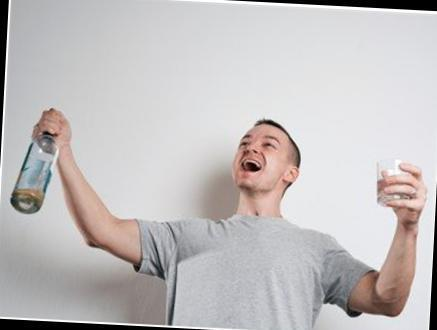Drunk: (236, 122, 286, 192)
